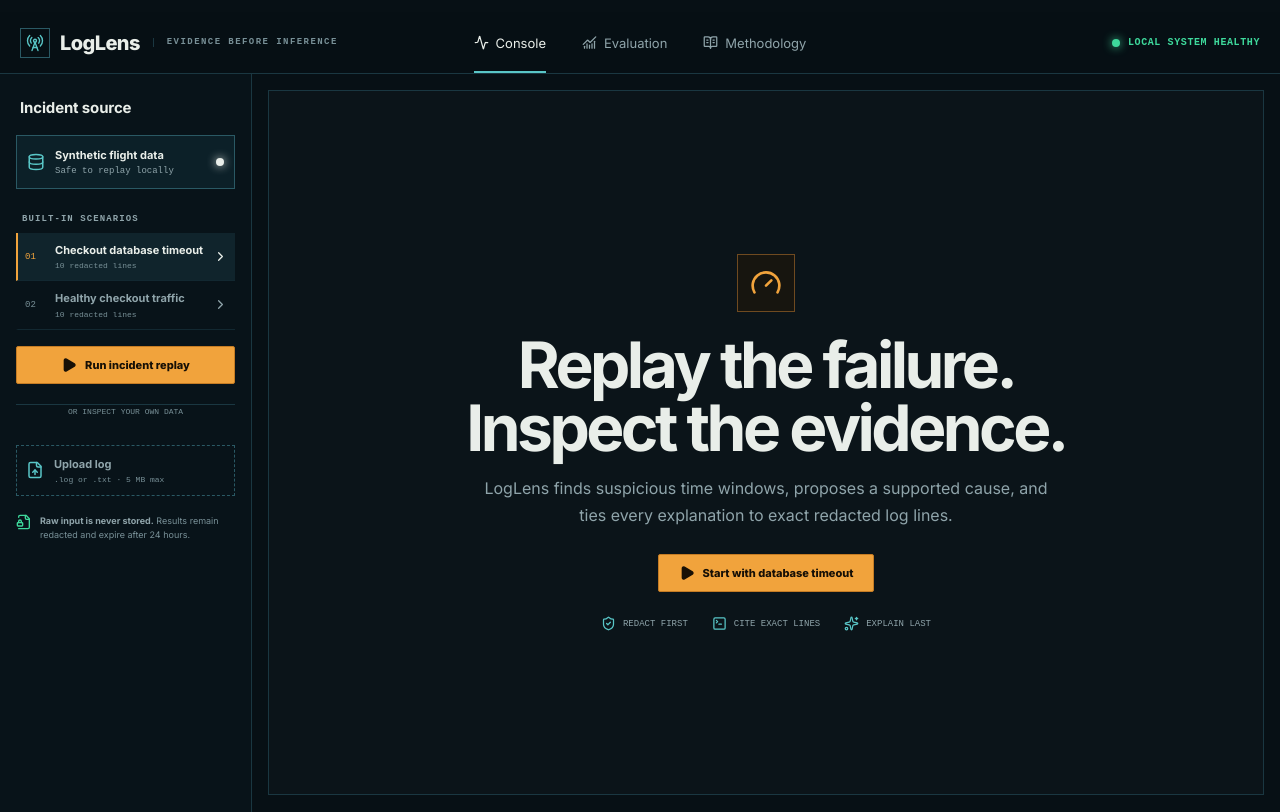
Test: LogLens console › moves from first-run state to synchronized cited evidence
Expected: the heading "Replay the failure.Inspect the evidence." is shown, x1=466 y1=334 x2=1066 y2=459
Click the button "Run incident replay" at (126, 365), box x1=16 y1=346 x2=235 y2=384
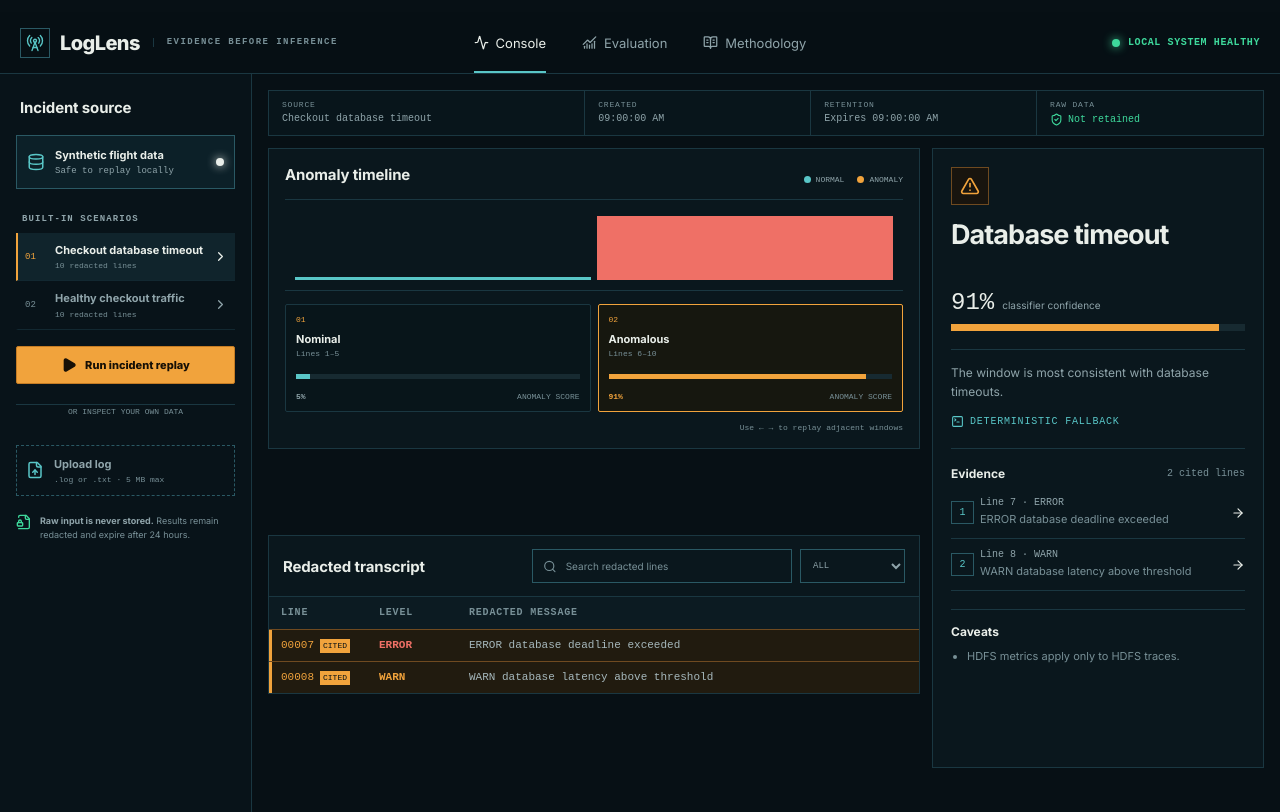
Expected: the heading "Database timeout" is shown, x1=951 y1=218 x2=1168 y2=251
Type "missing text" into the field with placeholder "Search redacted lines" at (672, 566), box x1=564 y1=559 x2=781 y2=573
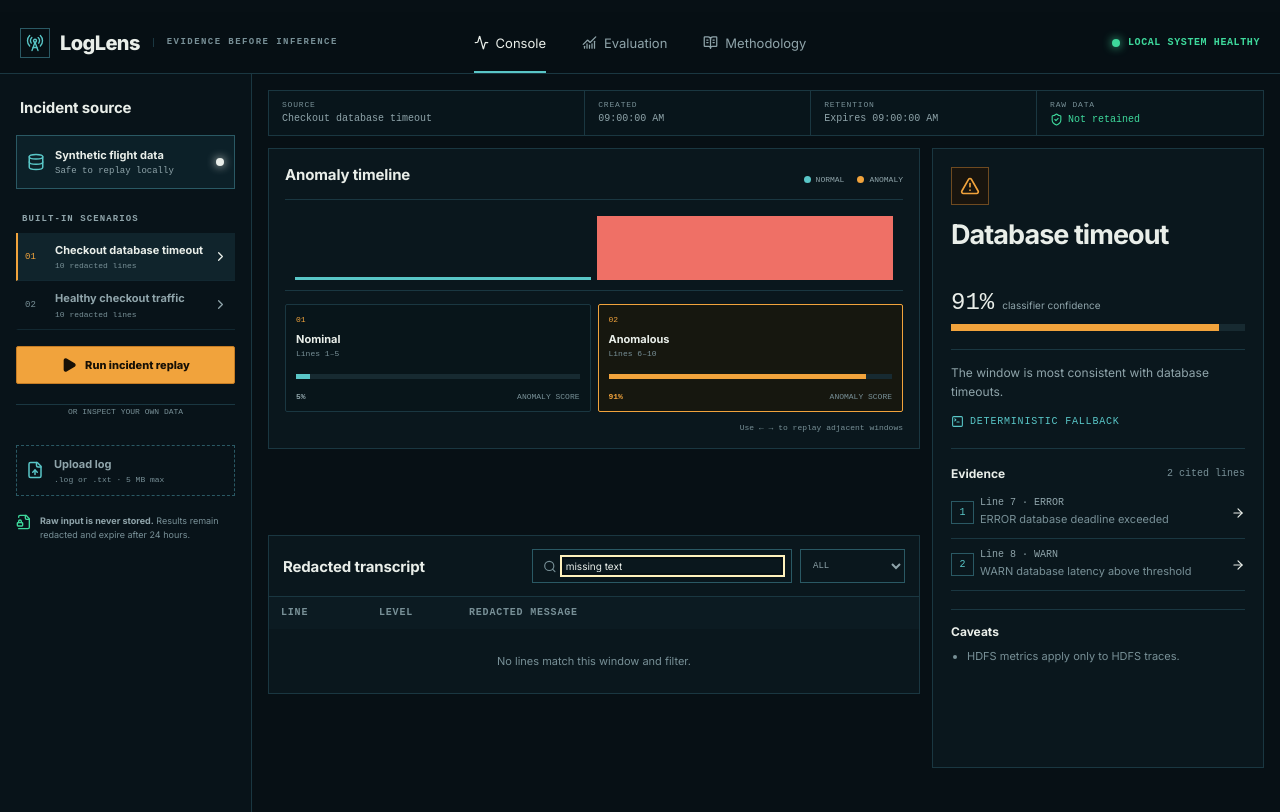
Select "INFO" in the dropdown named "filter by severity" at (852, 566), box x1=800 y1=549 x2=905 y2=583
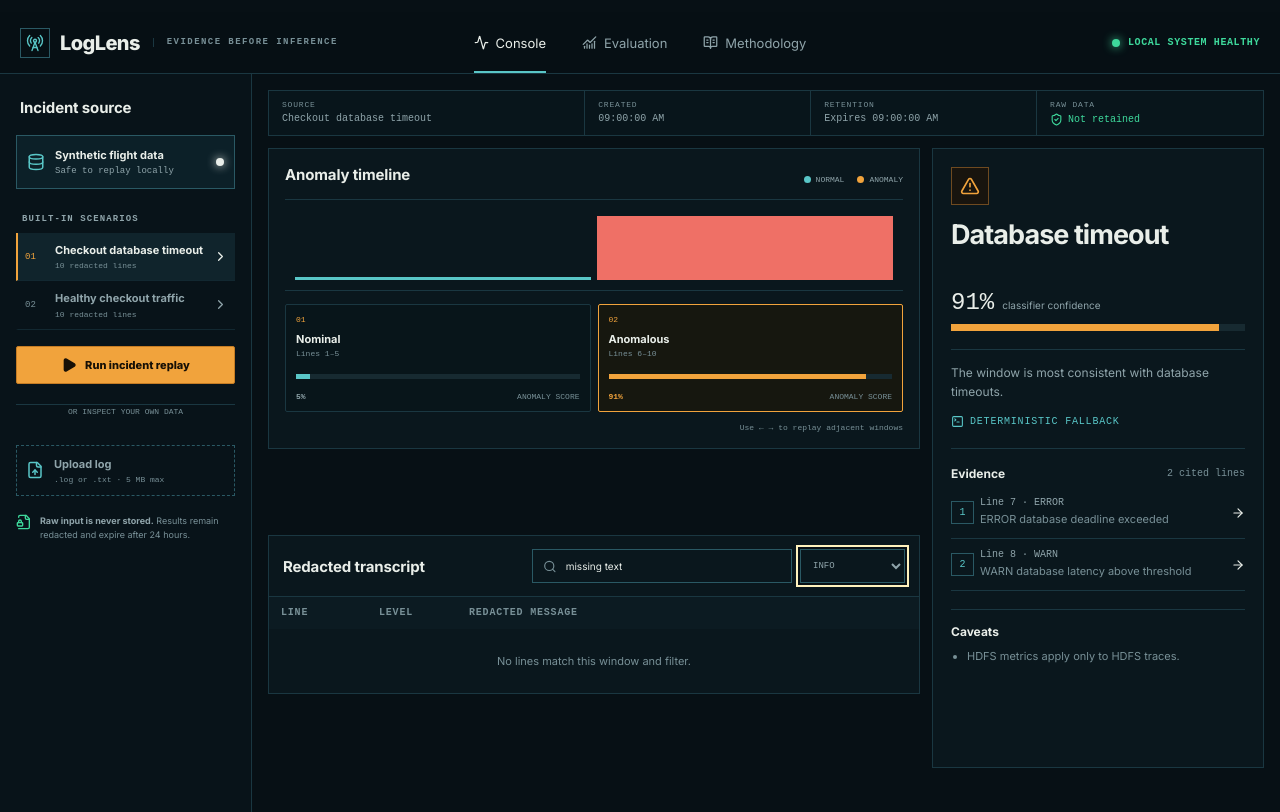
Click the button "1 Line 7 · ERROR ERROR database deadline exceeded" at (1098, 513), box x1=951 y1=487 x2=1245 y2=538
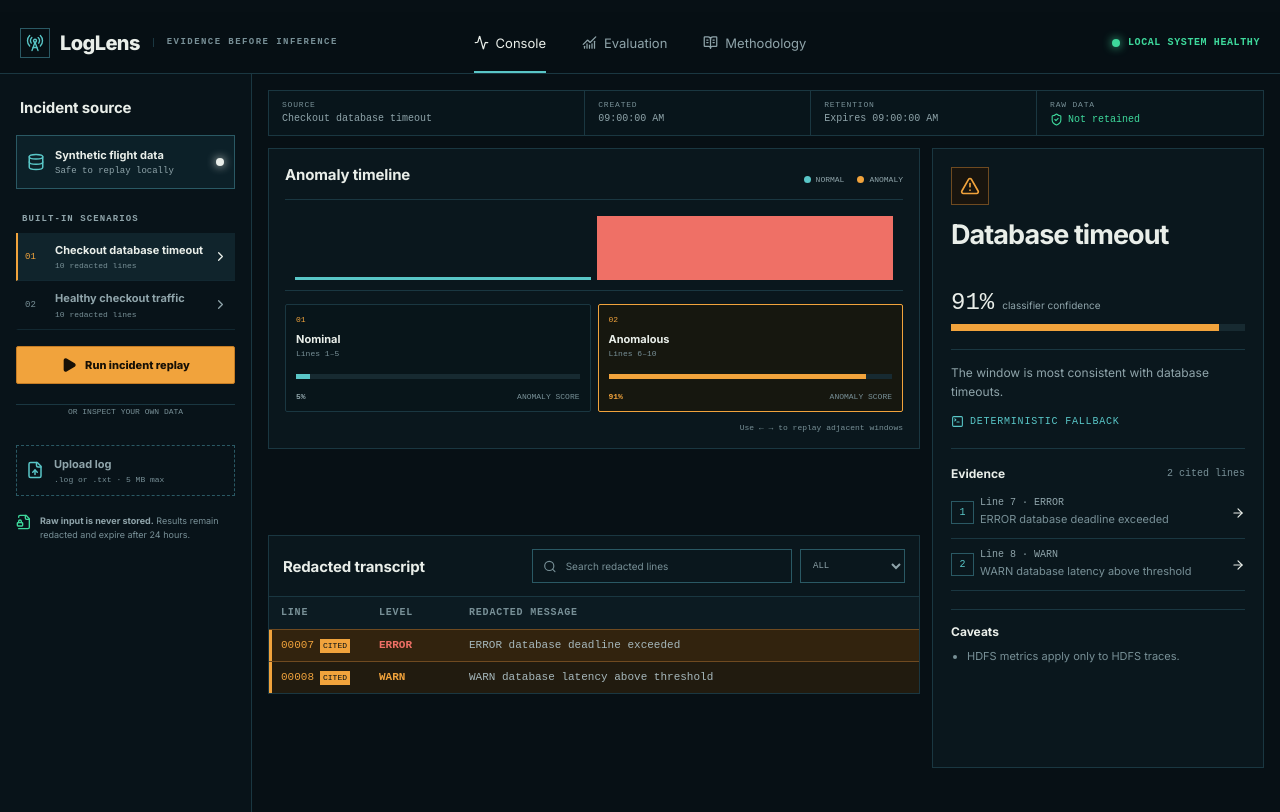
Expected: the text "Deterministic fallback" is shown, x1=951 y1=415 x2=1120 y2=428
Expected: the field with placeholder "Search redacted lines" is empty, x1=564 y1=559 x2=781 y2=573
